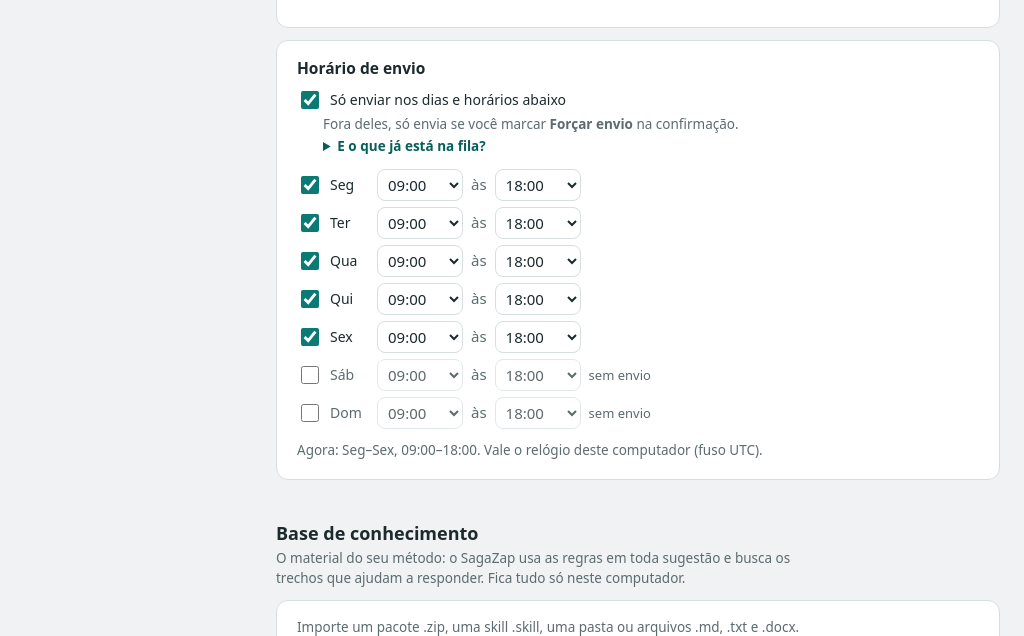
Test: Configurações › Horário de envio › salva cada mudança; fim antes do início mostra o erro e não salva
This screenshot has width=1024, height=636.
(page scrolled)
Click the checkbox labelled "Sáb": (310, 375) [301, 366, 319, 384]
(page scrolled)
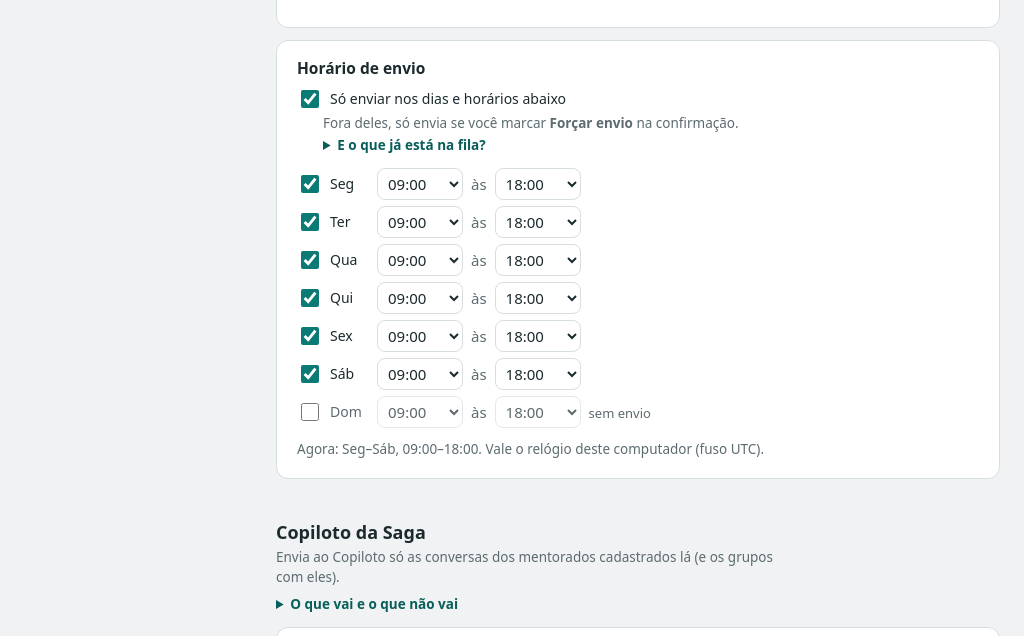
Select "12:00" in the dropdown named "Fim de sábado": (538, 374) [495, 358, 581, 390]
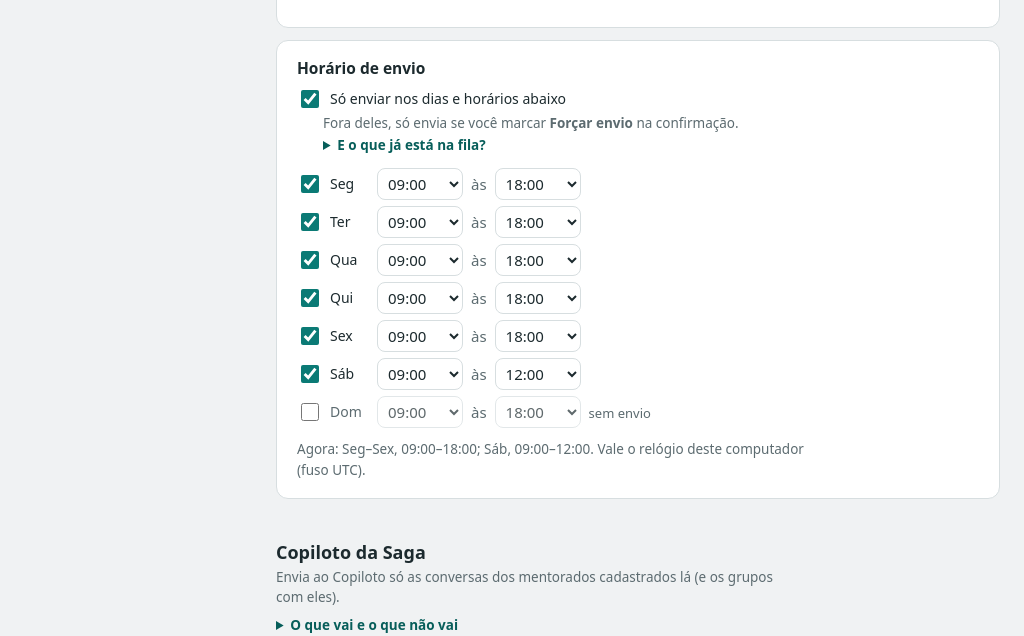
expect the text "Agora: Seg–Sex, 09:00–18:00; Sáb, 09:00–12:00" is shown: met, box [297, 440, 597, 458]
Select "08:00" in the dropdown named "Fim de segunda": (538, 184) [495, 168, 581, 200]
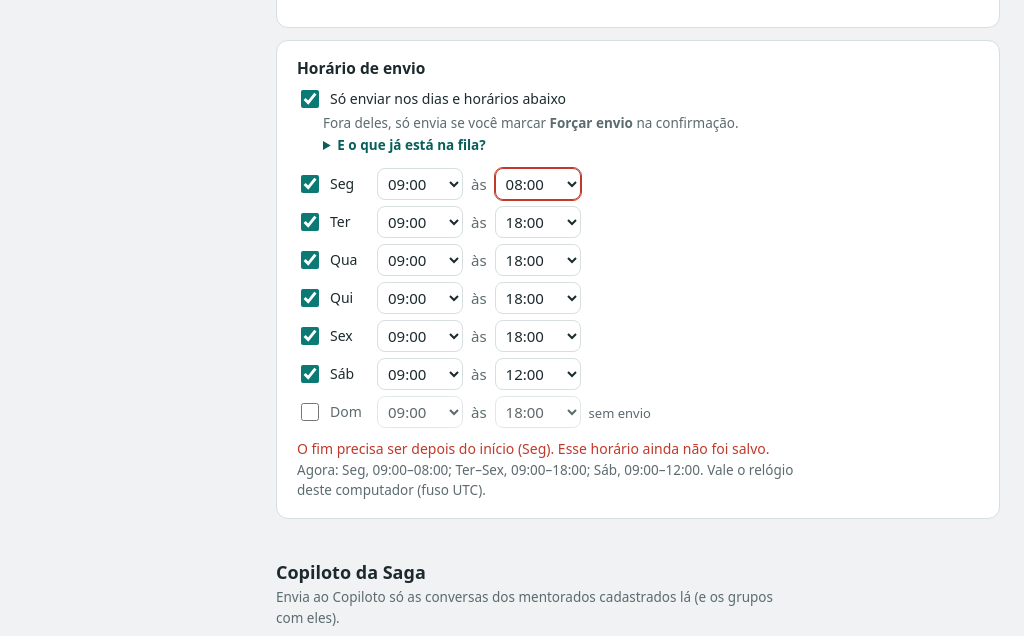
expect the message shows "O fim precisa ser depois do início (Seg)": met, box [297, 440, 770, 458]
